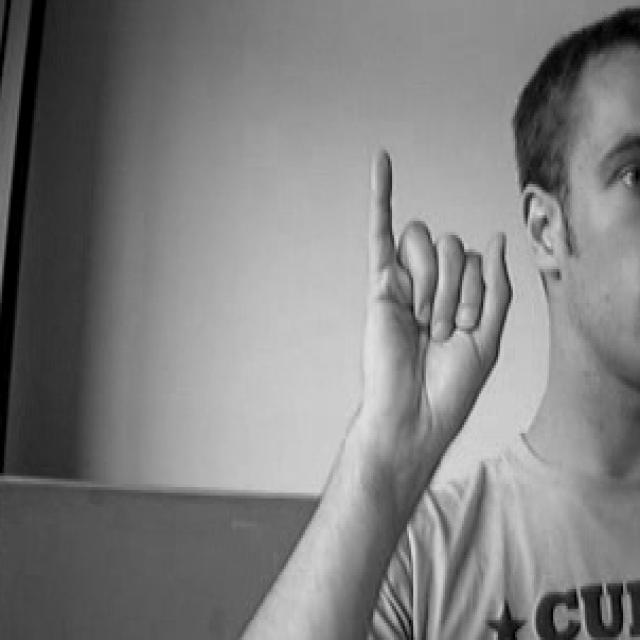I: (325, 125, 530, 473)
